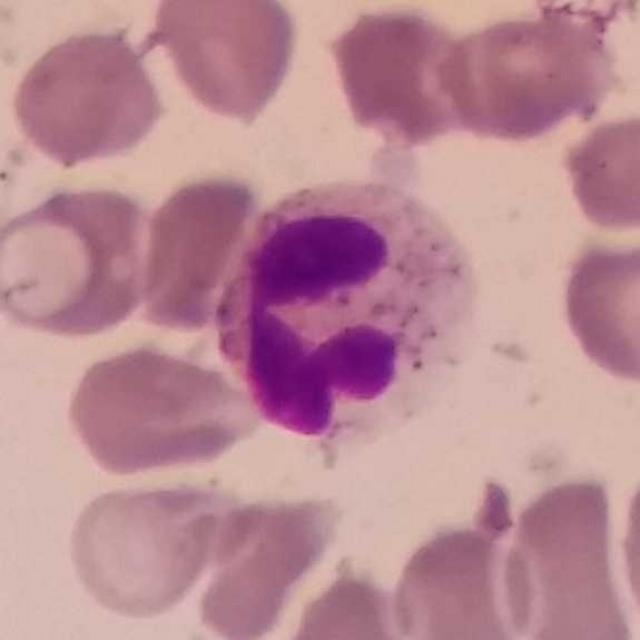Neutrophil: (214, 186, 488, 456)
RBC: (60, 337, 261, 481), (432, 2, 624, 147), (0, 178, 164, 343), (6, 21, 168, 174), (62, 472, 226, 623), (183, 487, 344, 640), (495, 471, 639, 640), (323, 1, 477, 150), (132, 167, 264, 335), (144, 0, 305, 126), (384, 511, 538, 640), (553, 217, 640, 391), (275, 562, 425, 640), (556, 104, 640, 238), (612, 443, 640, 638)
